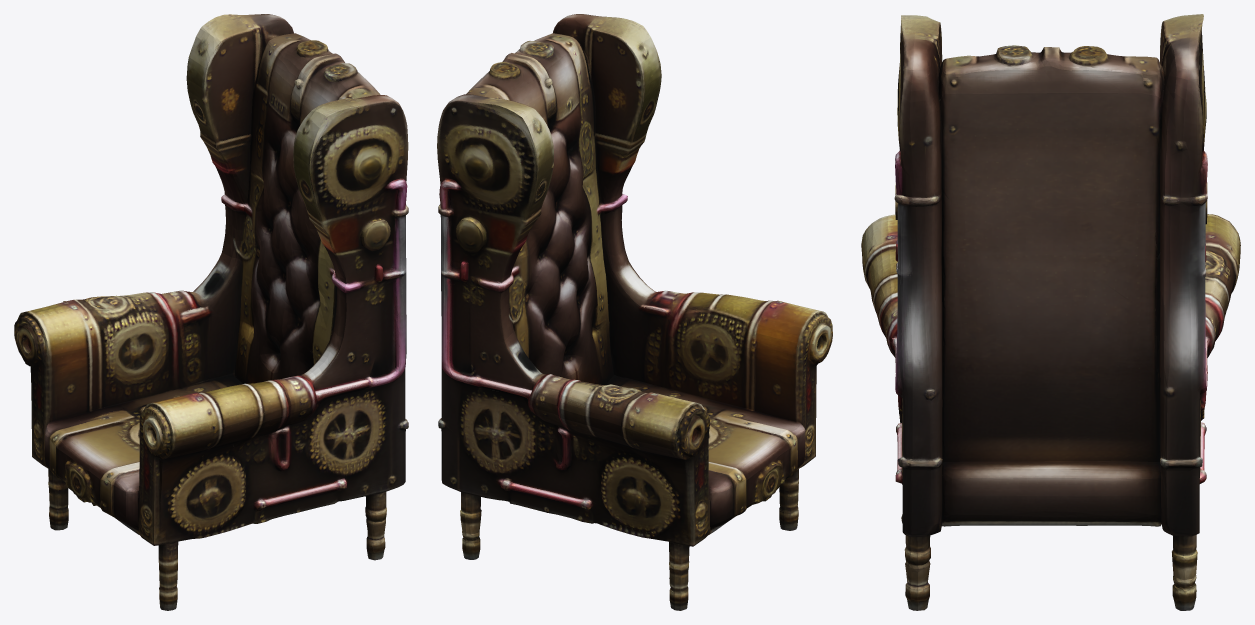
The model's file is after.glb.
3 renders of one model, left to right at view 1: azimuth 30°, elevation 25°; view 2: azimuth 150°, elevation 25°; view 3: azimuth 270°, elevation 25°, orthographic. The views are drawn at different scales.
Parts seen in each view (by area): view 1: world; view 2: world; view 3: world.
Boxes of the visible parts, box(x1,y1,x2,y2) form: world: box(14, 14, 408, 610); world: box(437, 14, 832, 610); world: box(861, 14, 1240, 610).
Bounding box in the file's own units: 0.6196 × 0.9985 × 0.6056.
Materials: 1 (1 with a texture image).
